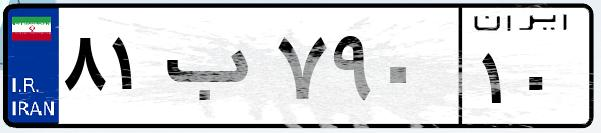0: (385, 28, 445, 110), (525, 38, 570, 115)
1: (475, 38, 525, 113), (110, 28, 158, 98)
7: (270, 28, 330, 110)
8: (57, 26, 110, 100)
9: (330, 28, 385, 110)
ب: (158, 20, 270, 120)
